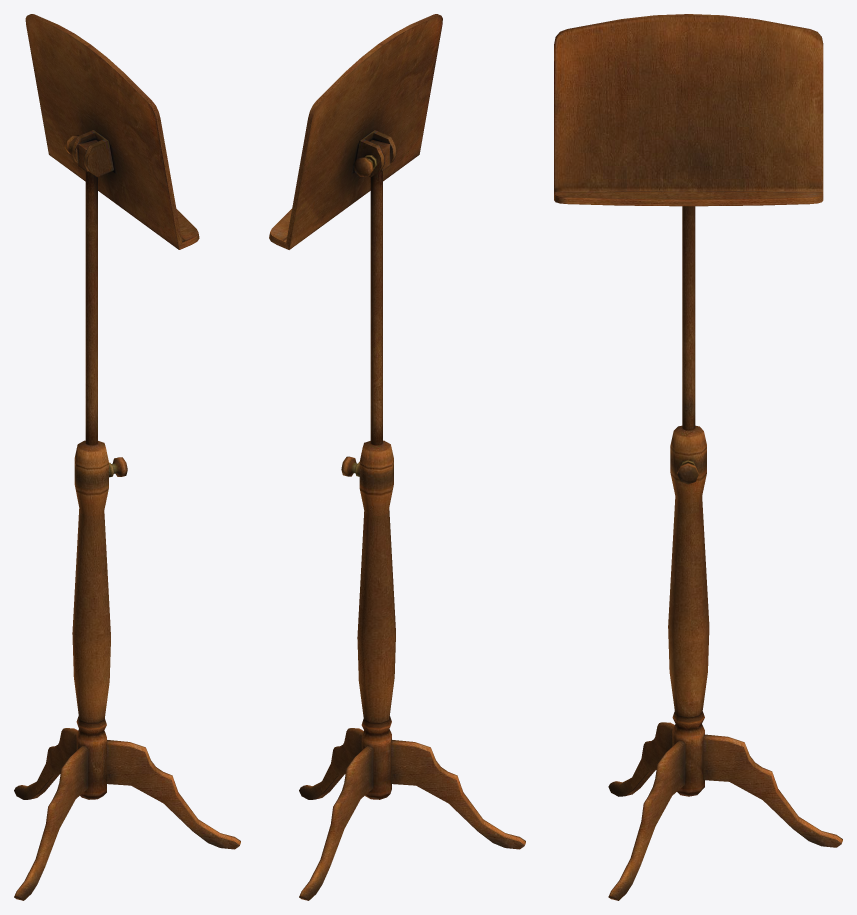
Rendered from lectern.fbx.
The picture shows the model from 3 angles, left to right: view 1: azimuth 30°, elevation 25°; view 2: azimuth 150°, elevation 25°; view 3: azimuth 270°, elevation 25°; orthographic projection. The views are drawn at different scales.
Parts seen in each view (by area): view 1: lectern; view 2: lectern; view 3: lectern.
Boxes of the visible parts, x1,y1,x2,y2 form: lectern: (14, 14, 240, 900); lectern: (269, 14, 525, 900); lectern: (554, 14, 842, 900).
Size of the model in its own units: 50.1 by 170 by 53.69.
Materials: 1 (1 with a texture image).
